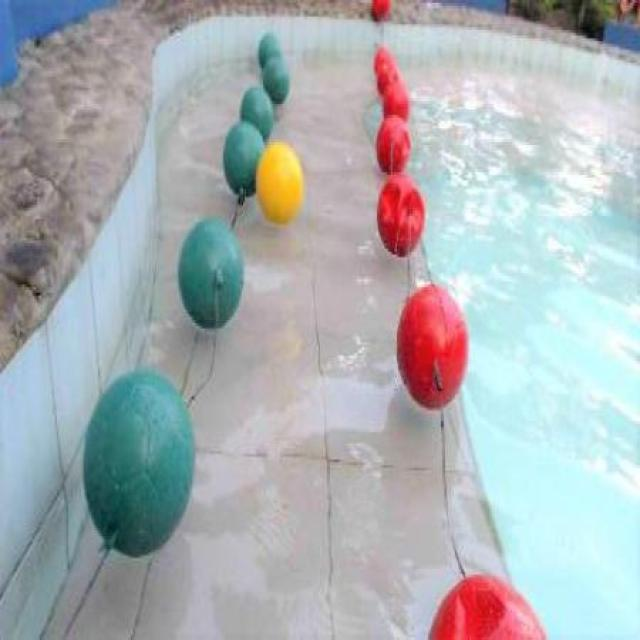buoy: (81, 368, 196, 556), (394, 284, 468, 410), (175, 216, 243, 332), (426, 572, 547, 637), (375, 171, 424, 256), (256, 138, 302, 223), (221, 120, 265, 197), (237, 84, 274, 146), (375, 115, 410, 175), (262, 54, 288, 104), (381, 79, 410, 123), (375, 55, 400, 93), (256, 30, 280, 68)
